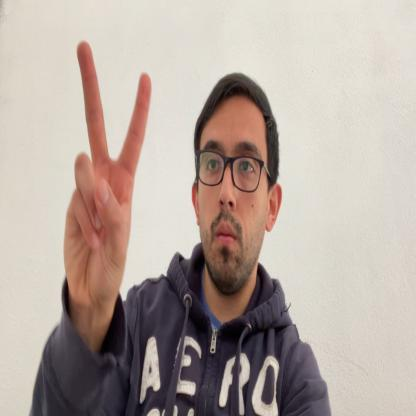V: (62, 40, 152, 324)
